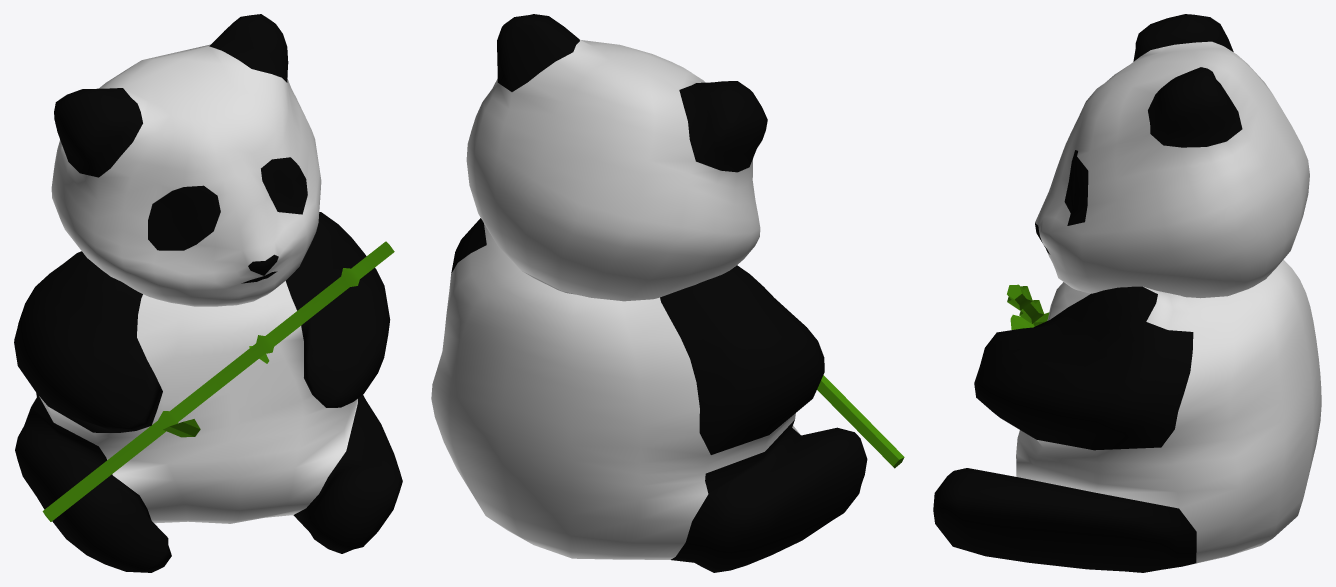
The model's file is panda.fbx.
3 views of the same model, side by side, from view 1: azimuth 30°, elevation 25°; view 2: azimuth 150°, elevation 25°; view 3: azimuth 270°, elevation 25° (orthographic). The views are drawn at different scales.
Visible parts, largest first — view 1: pSphere2, pSphere1, pSphere5; view 2: pSphere2, pSphere1, pSphere5; view 3: pSphere2, pSphere1, pSphere5.
Boxes of the visible parts, x1,y1,x2,y2 form: pSphere2: (14, 212, 402, 572); pSphere1: (51, 14, 321, 306); pSphere5: (42, 241, 394, 521); pSphere2: (431, 218, 867, 572); pSphere1: (466, 14, 767, 301); pSphere5: (817, 375, 904, 468); pSphere2: (933, 260, 1321, 572); pSphere1: (1035, 14, 1309, 298); pSphere5: (1007, 284, 1049, 329).
Bounding box in the file's own units: 3.83 × 4.66 × 3.26.
